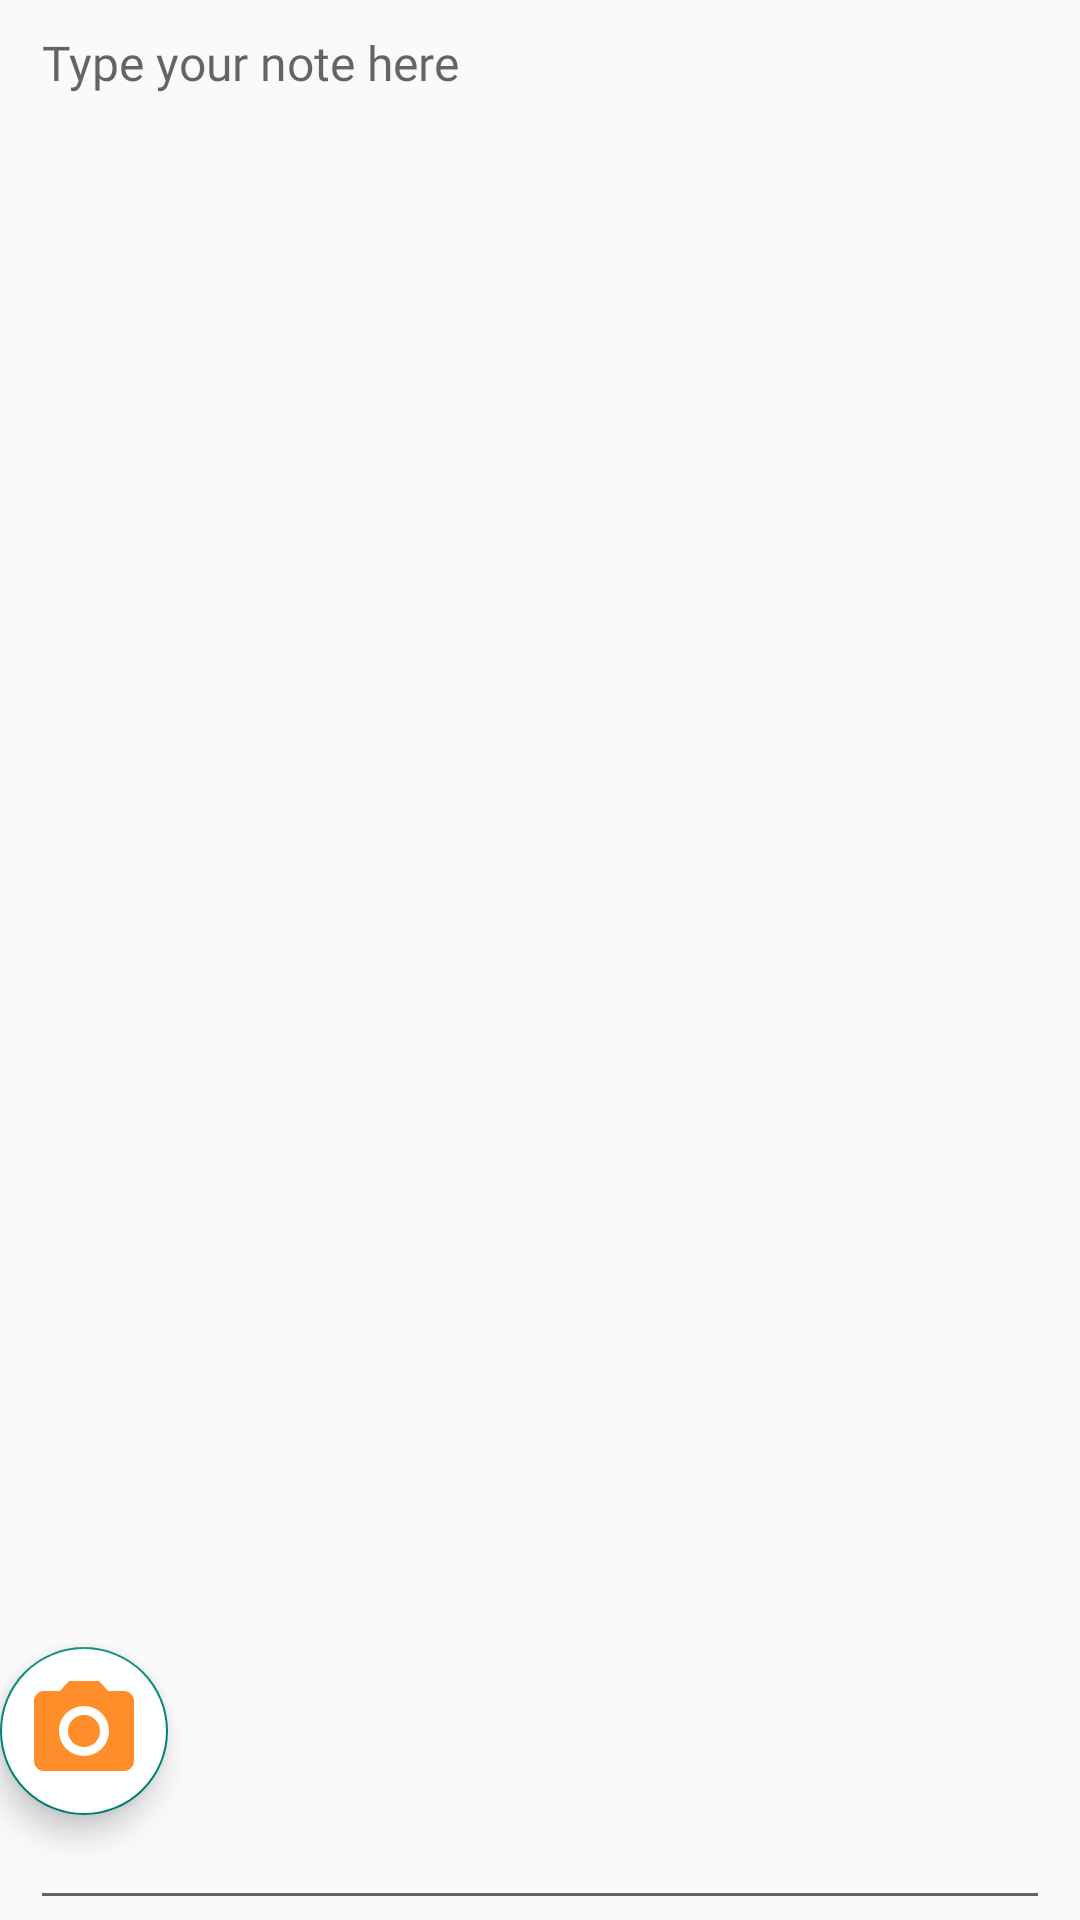

Locate icon controls on the screen. Image size 1080 × 1920, boxes as [left=x1, top=y1, right=x2, bottom=y2].
add images: [left=34, top=1681, right=134, bottom=1771]
